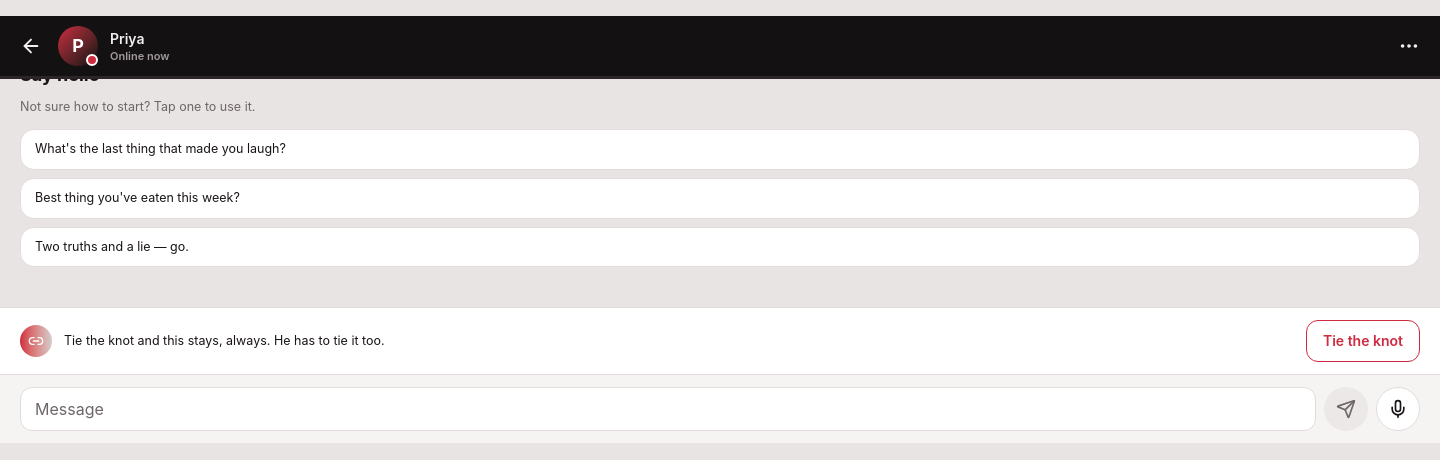
reading › offers icebreakers on an empty Thread, which fill the composer
Step 1. Click the button "Best thing you've eaten this week?" → coordinates (137, 197), box top-left (20, 178), bottom-right (1420, 219)
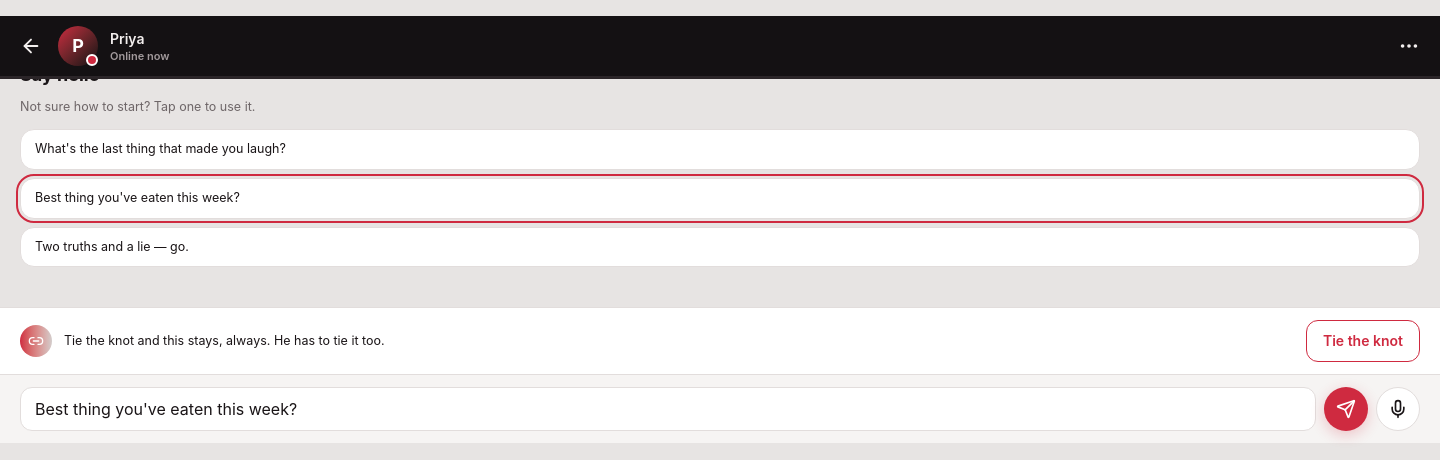
Result: the text box named "Message" holds "Best thing you've eaten this week?" at top-left (20, 387), bottom-right (1316, 431)
